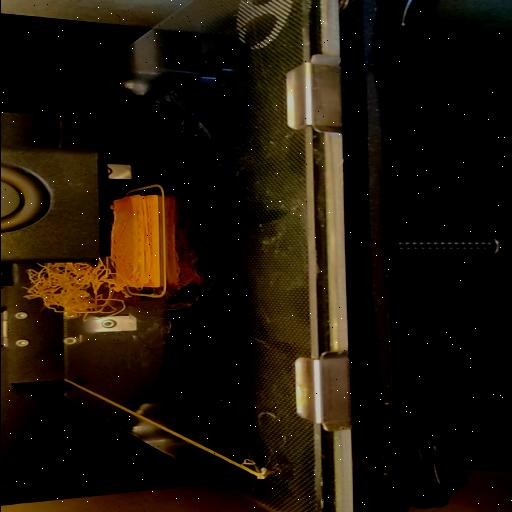spaghetti: (26, 258, 130, 318)
